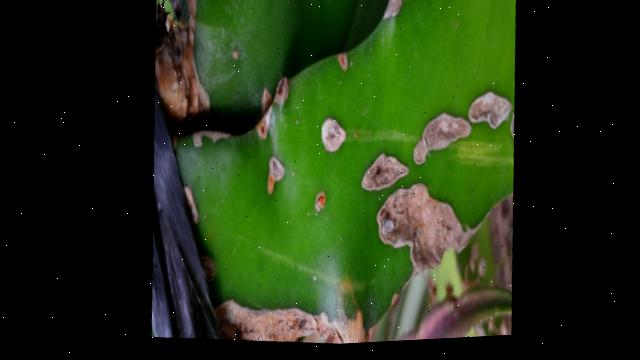stemcanker: (319, 116, 349, 155), (267, 155, 284, 184), (312, 188, 330, 215)
